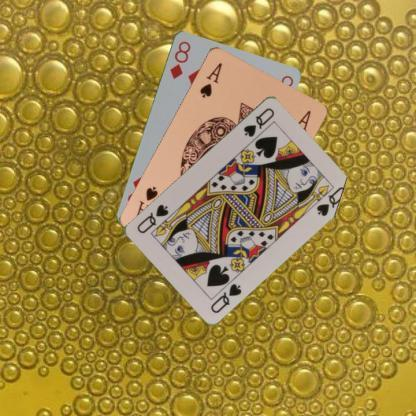8d: (167, 38, 192, 80)
As: (197, 59, 224, 99)
Qs: (208, 280, 243, 314), (241, 105, 276, 138)
